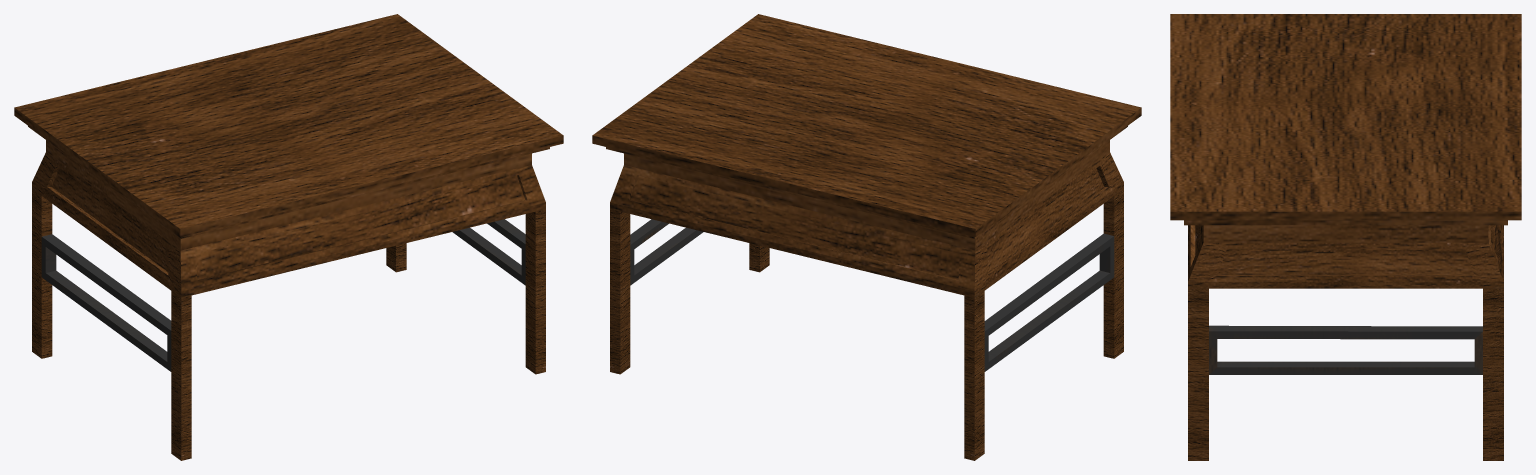
Rendered from coffee table.fbx.
3 views of the same model, side by side, from view 1: azimuth 30°, elevation 25°; view 2: azimuth 150°, elevation 25°; view 3: azimuth 270°, elevation 25° (orthographic). The views are drawn at different scales.
Visible parts, largest first — view 1: Cube; view 2: Cube; view 3: Cube.
Boxes of the visible parts, <box> form: Cube: <box>14,14,563,460</box>; Cube: <box>592,14,1141,460</box>; Cube: <box>1170,14,1521,460</box>.
Size of the model in its own units: 327 by 196 by 246.
